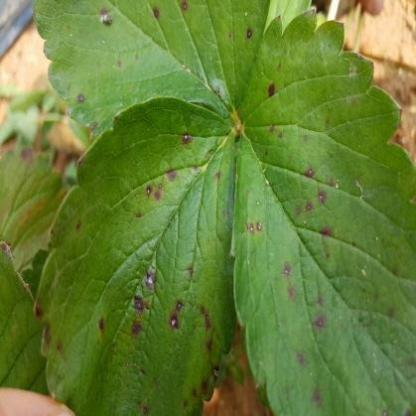Strawberry_Leaf_Spot: (231, 5, 415, 415), (34, 96, 238, 415), (33, 0, 271, 144)
